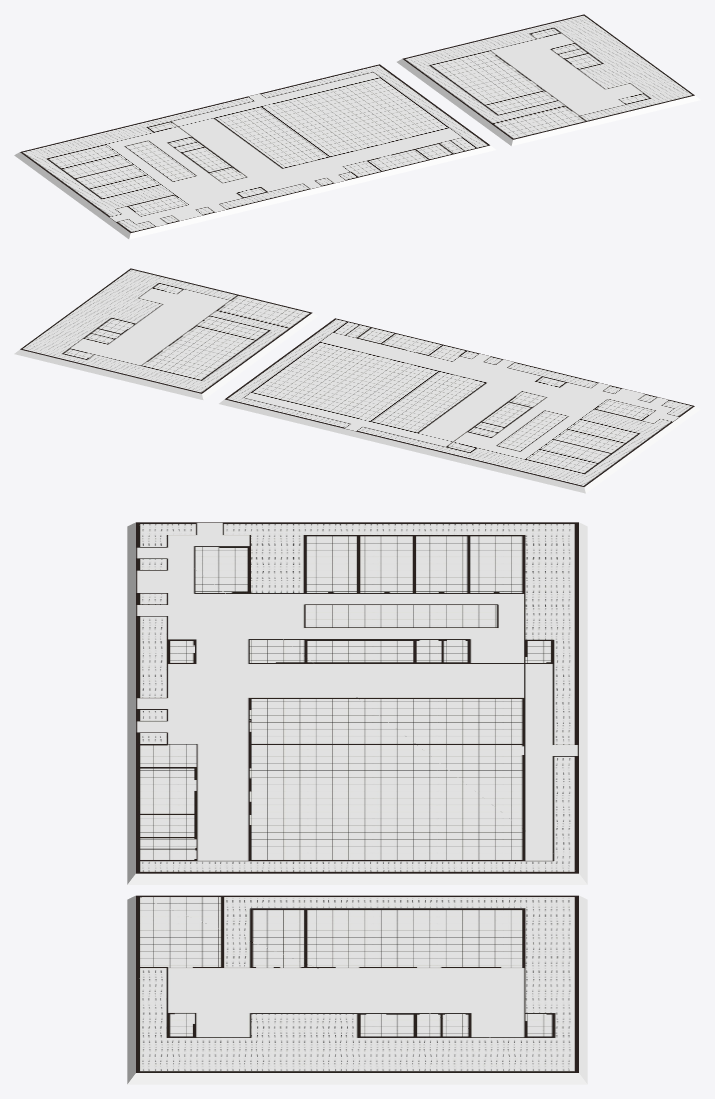
Rendered from plan.obj.
3 renders of one model, top to bottom at view 1: azimuth 30°, elevation 25°; view 2: azimuth 150°, elevation 25°; view 3: azimuth 270°, elevation 25°, orthographic. The views are drawn at different scales.
Parts seen in each view (by area): view 1: Mesh1 Group1 Model, Mesh2 Group2 Model; view 2: Mesh1 Group1 Model, Mesh2 Group2 Model; view 3: Mesh1 Group1 Model, Mesh2 Group2 Model.
Boxes of the visible parts, x1,y1,x2,y2 form: Mesh1 Group1 Model: [14, 64, 495, 239]; Mesh2 Group2 Model: [397, 14, 700, 146]; Mesh1 Group1 Model: [219, 318, 700, 493]; Mesh2 Group2 Model: [14, 268, 317, 400]; Mesh1 Group1 Model: [127, 522, 587, 884]; Mesh2 Group2 Model: [127, 895, 587, 1084].
Size of the model in its own units: 381 by 2.5 by 133.
Materials: 3 (2 with a texture image).
